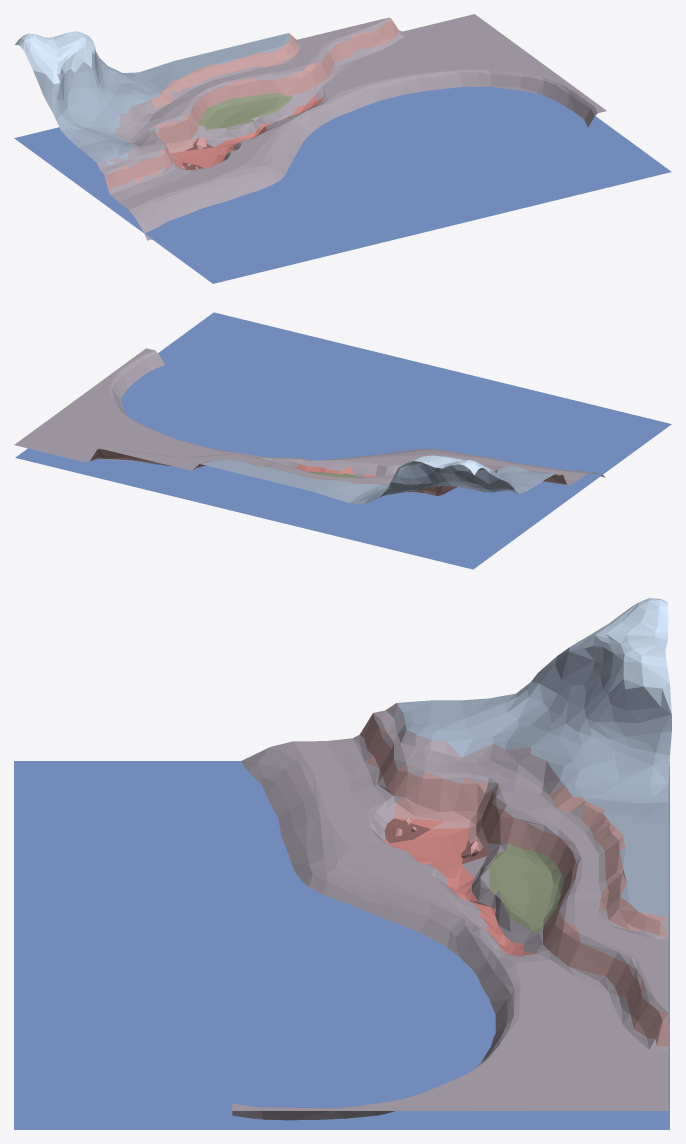
The model's file is planetB.fbx.
3 renders of one model, top to bottom at view 1: azimuth 30°, elevation 25°; view 2: azimuth 150°, elevation 25°; view 3: azimuth 270°, elevation 25°, orthographic. The views are drawn at different scales.
Visible parts, largest first — view 1: land, seaLevel; view 2: seaLevel, land; view 3: seaLevel, land.
Part boxes in pixels (x1,y1,x2,y2): land: (15, 14, 606, 240); seaLevel: (14, 86, 671, 283); seaLevel: (15, 312, 671, 569); land: (14, 348, 605, 503); seaLevel: (14, 761, 669, 1129); land: (232, 598, 671, 1120).
Bounding box in the file's own units: 40302 × 9016 × 30151.
